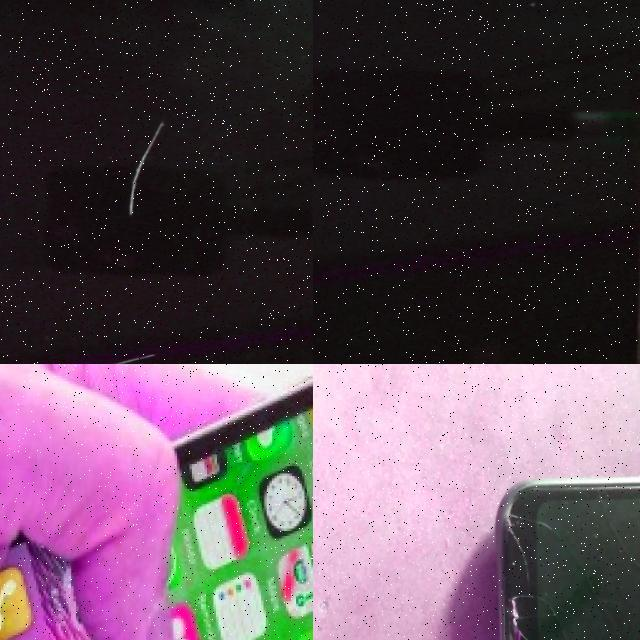scratch: (101, 106, 198, 228), (1, 331, 177, 364)
screen crack: (479, 463, 567, 640)
